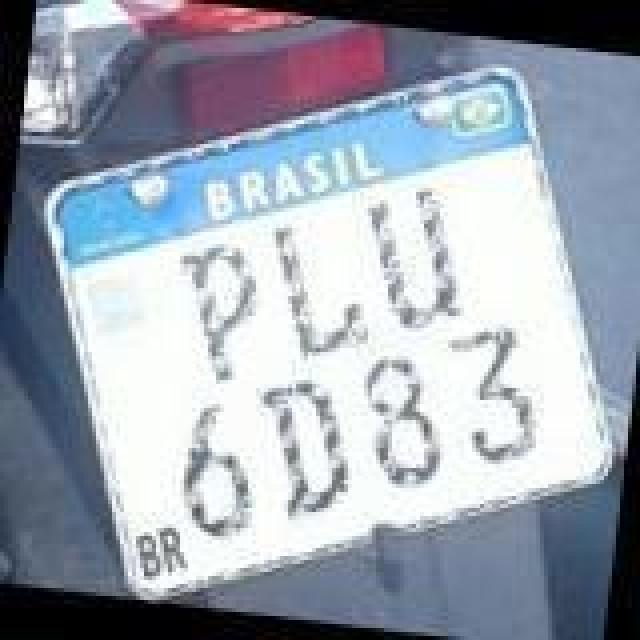3: (412, 282, 572, 502)
6: (164, 378, 276, 550)
8: (356, 320, 468, 520)
D: (248, 346, 368, 550)
L: (222, 208, 402, 376)
P: (154, 232, 278, 392)
U: (330, 172, 486, 340)
